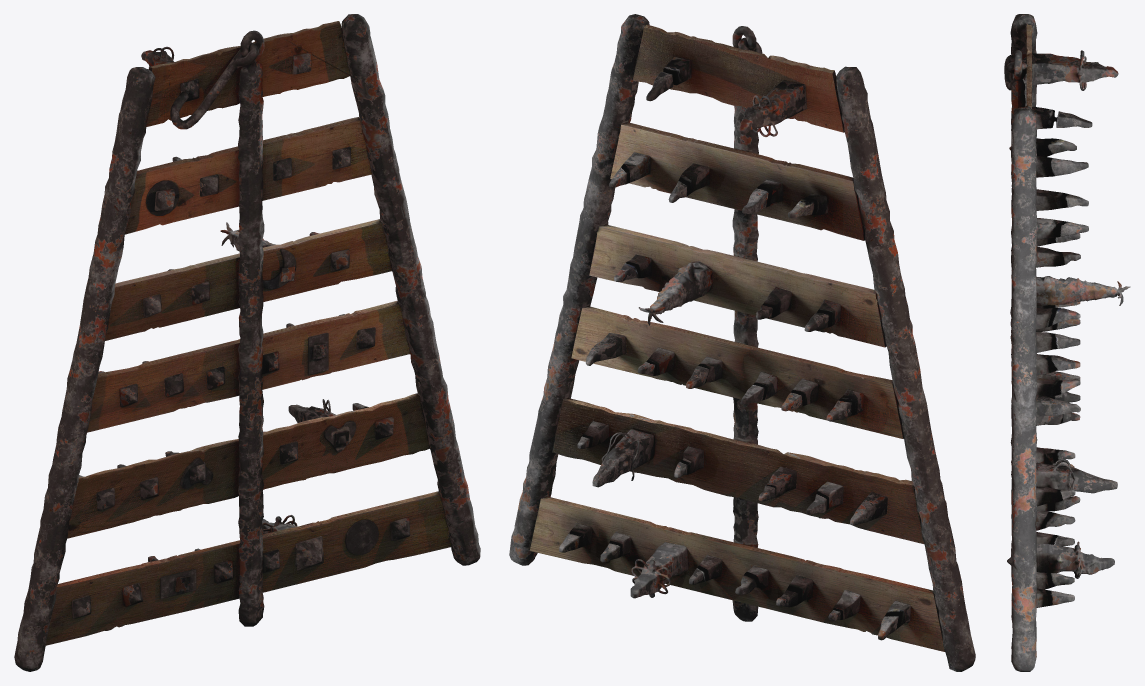
File: Harrow.gltf
3 renders of one model, left to right at view 1: azimuth 30°, elevation 25°; view 2: azimuth 150°, elevation 25°; view 3: azimuth 270°, elevation 25°, orthographic. The views are drawn at different scales.
Visible parts, largest first — view 1: Harrow; view 2: Harrow; view 3: Harrow.
Boxes of the visible parts, left/top/right/bottom form: Harrow: left=14, top=14, right=480, bottom=671; Harrow: left=509, top=14, right=975, bottom=671; Harrow: left=1004, top=14, right=1130, bottom=671.
Size of the model in its own units: 0.9173 by 1.13 by 0.2435.
1 material, 1 textured.
